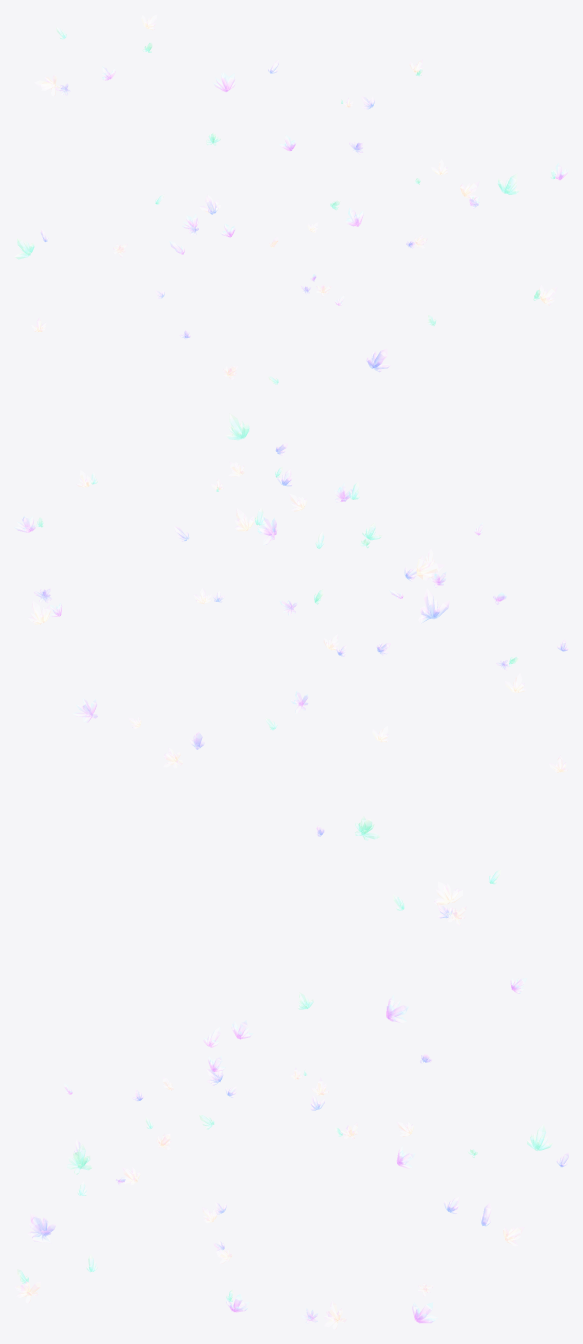
Rendered from crystals.glb.
The picture shows the model from 3 angles, top to bottom: view 1: azimuth 30°, elevation 25°; view 2: azimuth 150°, elevation 25°; view 3: azimuth 270°, elevation 25°; orthographic projection. The views are drawn at different scales.
Size of the model in its own units: 22.26 by 10.72 by 17.5.
